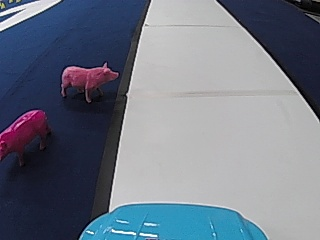pig: (1, 105, 49, 166), (57, 59, 118, 101)
